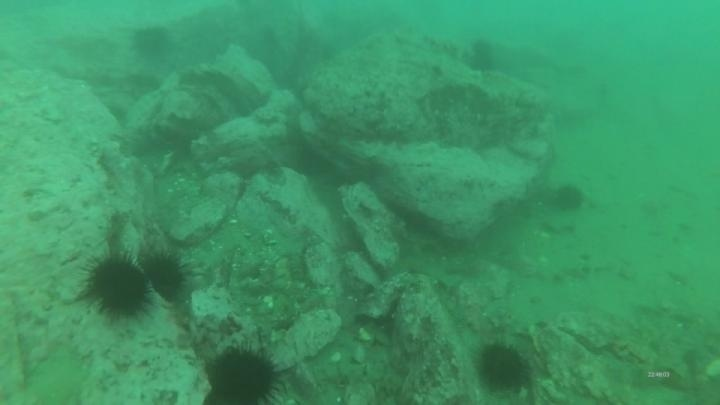echinus: (82, 251, 154, 322), (203, 343, 284, 405), (475, 340, 532, 392), (141, 249, 190, 302), (129, 23, 172, 60), (465, 38, 498, 75), (550, 182, 586, 215)
holothurian: (350, 136, 442, 171)
